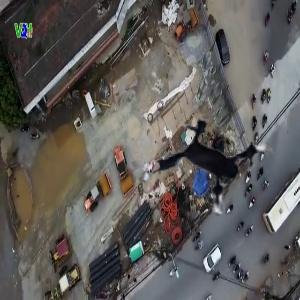drone: (134, 98, 286, 250)
